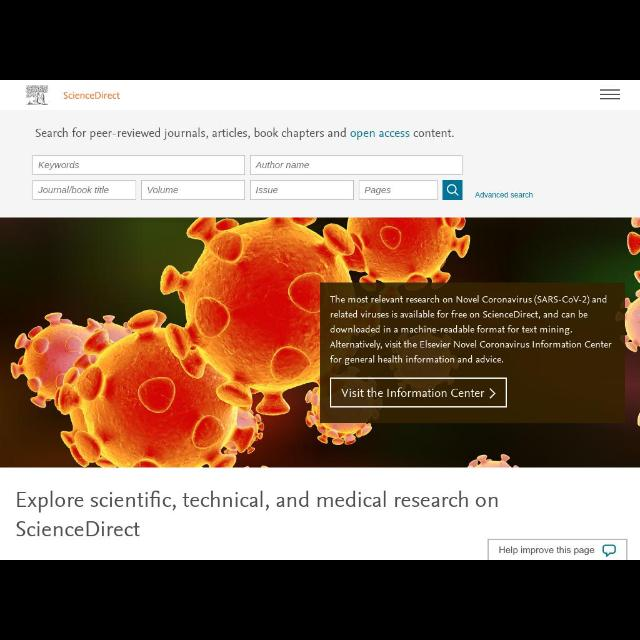backgroundimage: (11, 311, 320, 467)
button: (442, 180, 462, 200)
icon: (600, 90, 620, 100), (602, 545, 616, 557), (447, 184, 459, 196), (488, 388, 496, 398)
image: (26, 84, 48, 106)
input: (33, 155, 245, 175), (250, 155, 462, 175), (250, 180, 354, 200), (32, 180, 136, 200), (142, 180, 245, 200), (359, 180, 437, 200)
panel: (1, 218, 639, 468), (320, 282, 626, 423)
text: (330, 295, 612, 365), (16, 491, 498, 513), (36, 128, 454, 140), (16, 521, 140, 537), (341, 387, 485, 397), (500, 546, 594, 556), (38, 186, 108, 194), (64, 91, 120, 99), (475, 192, 533, 198), (38, 162, 80, 170), (255, 162, 309, 168), (148, 186, 178, 194), (365, 187, 391, 196), (256, 186, 278, 194)
textbutton: (329, 377, 506, 407), (488, 539, 628, 559)
toolbar: (1, 80, 640, 110)
